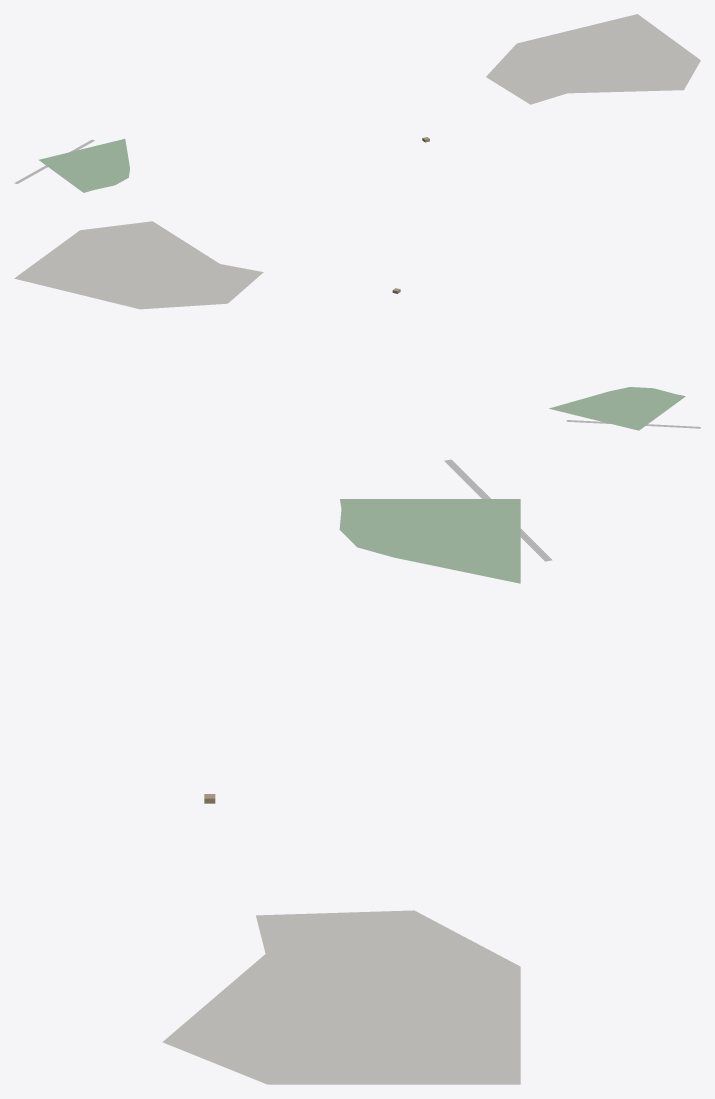
3 renders of one model, top to bottom at view 1: azimuth 30°, elevation 25°; view 2: azimuth 150°, elevation 25°; view 3: azimuth 270°, elevation 25°, orthographic. The views are drawn at different scales.
Bounding box in the file's own units: 535 × 2.55 × 141.
